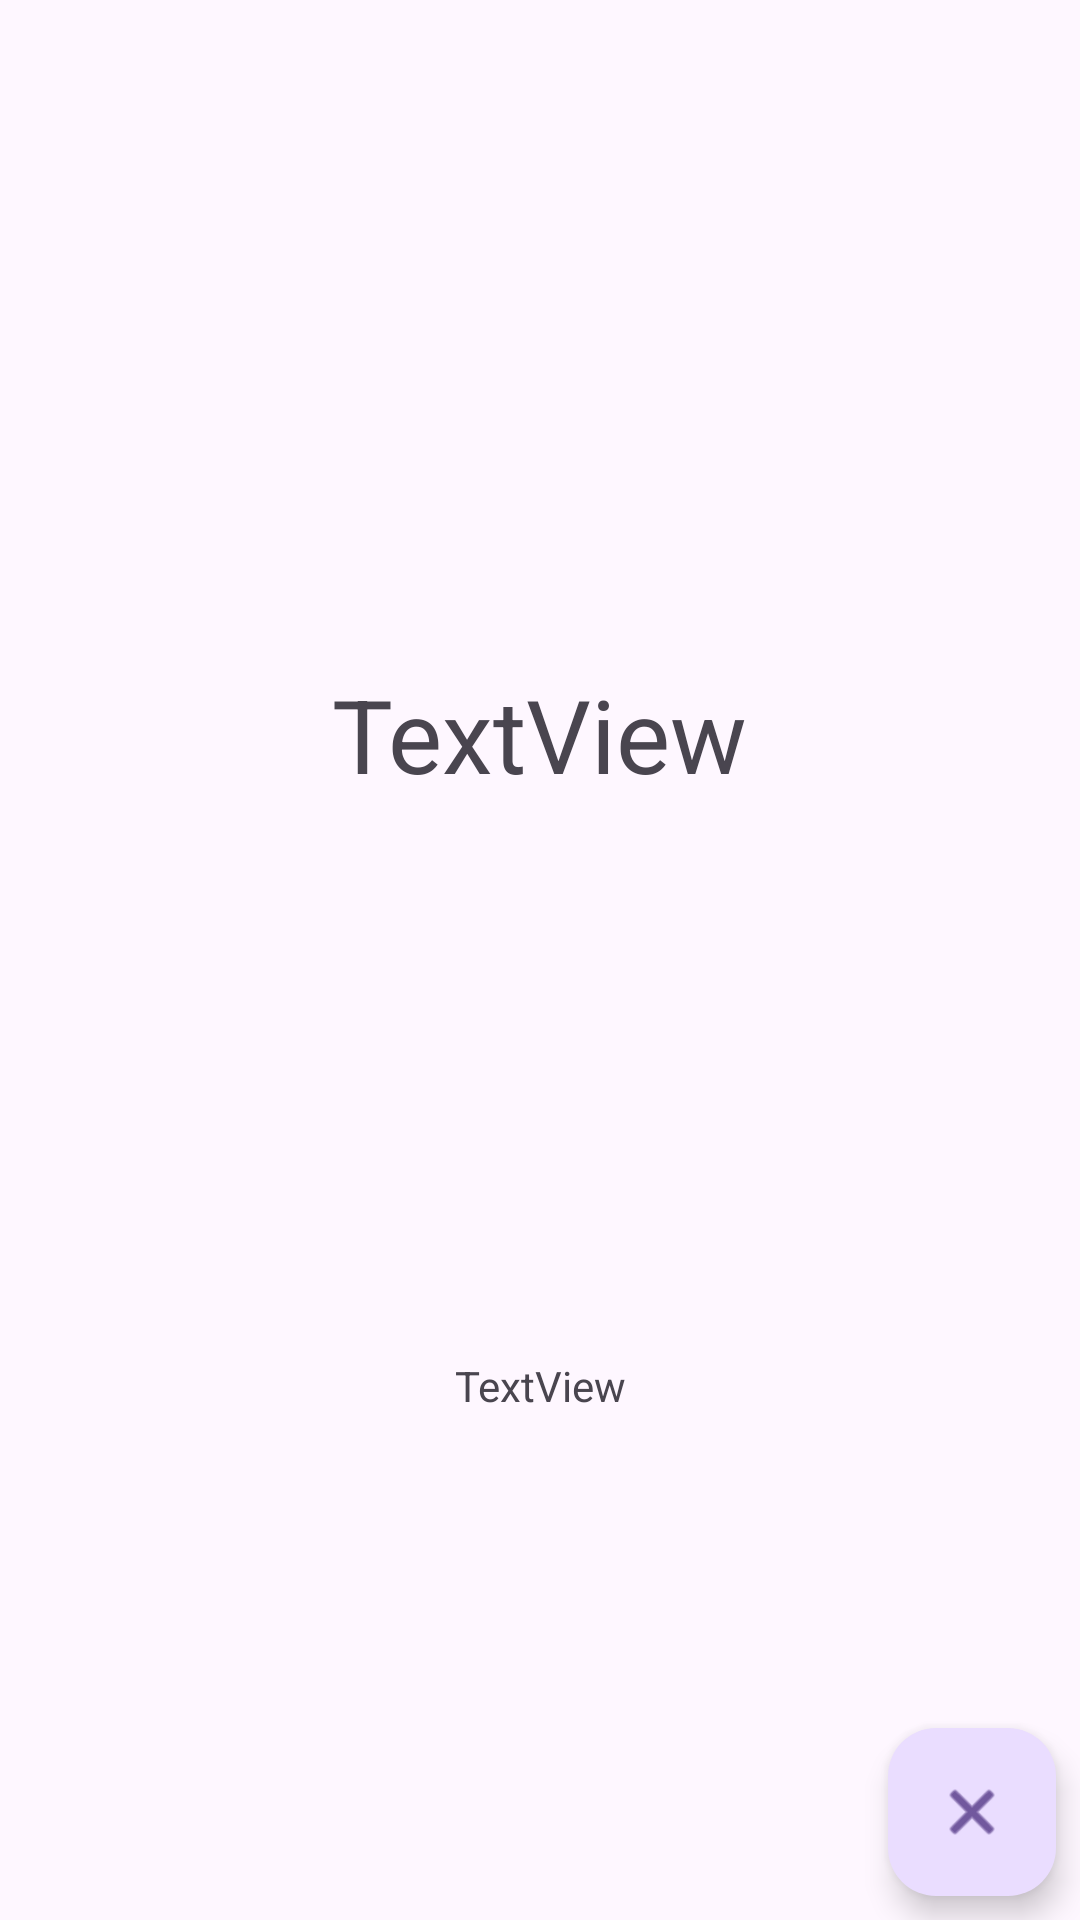

Named icons in this screenshot (1080px x 1920px) and their centers, (x=x, y=y):
close clear cancel: (x=972, y=1812)
